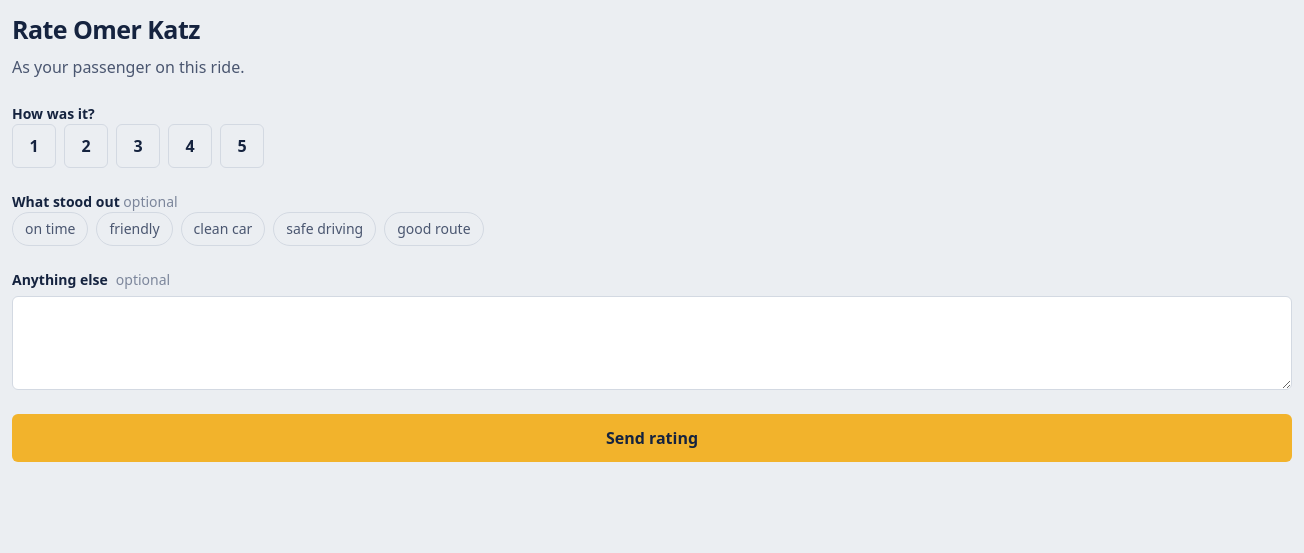
it: rating someone after a ride › refuses to submit with no score picked
Expected: the heading "Rate Omer Katz" is shown, left=12, top=12, right=200, bottom=46
Click the button "Send rating".
click(652, 438)  # box left=12, top=414, right=1292, bottom=462
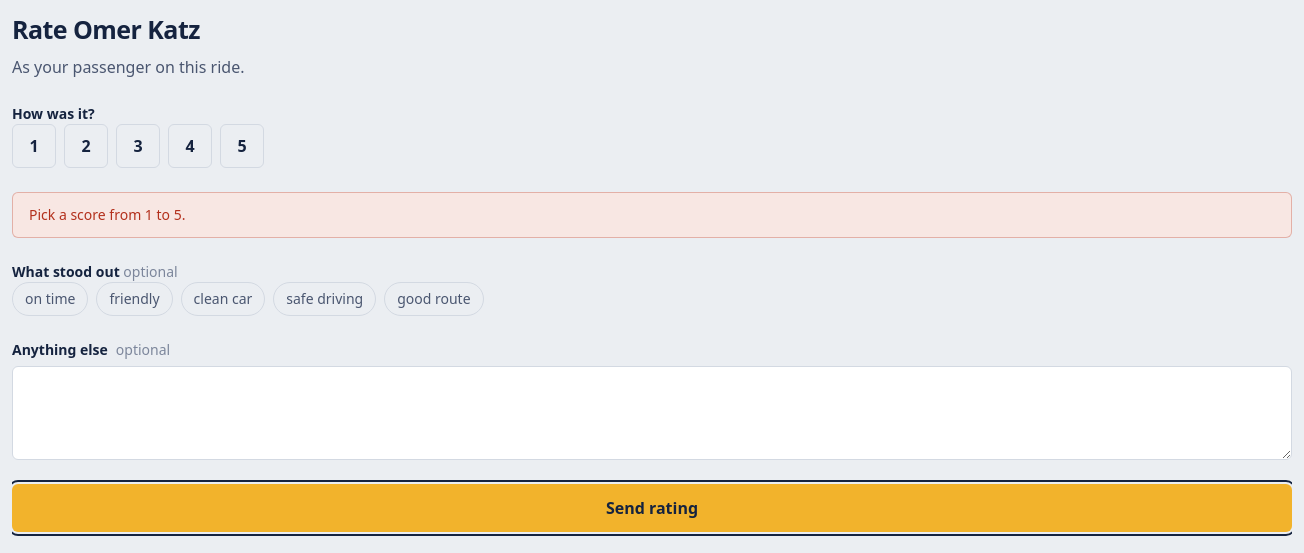
Expected: the text "Pick a score from 1 to 5." is shown, left=12, top=192, right=1292, bottom=238
